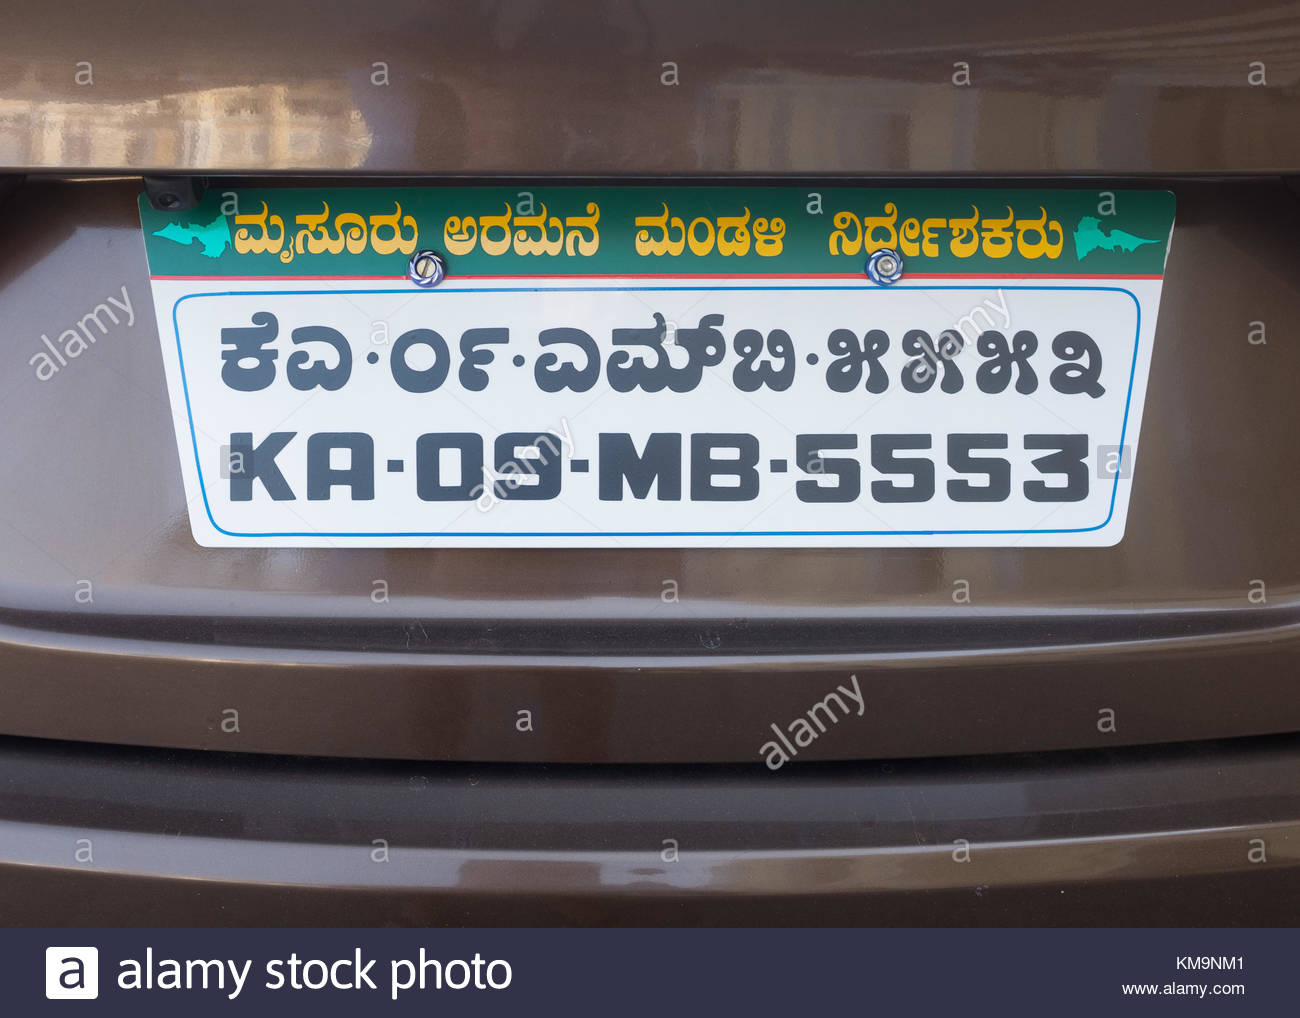number_plate: (165, 395, 1138, 563)
